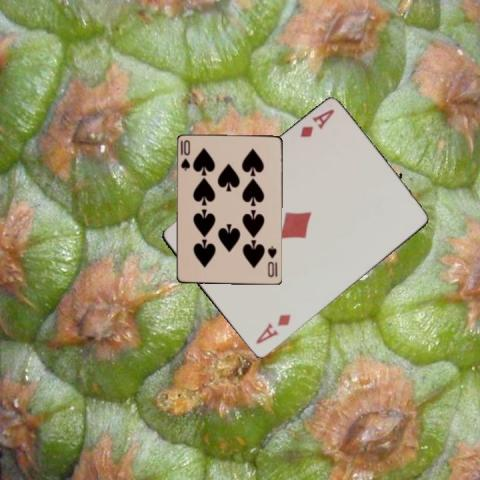10s: (265, 244, 278, 279), (178, 137, 191, 172)
Ad: (252, 311, 293, 346), (297, 106, 336, 139)
